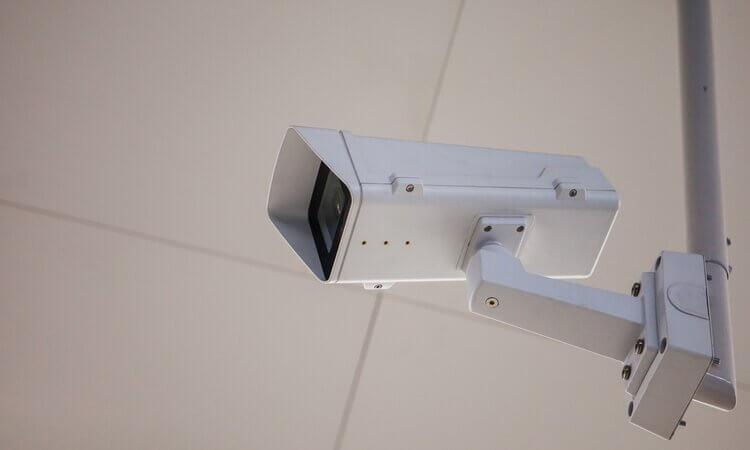------------------------------: (259, 119, 624, 307)
